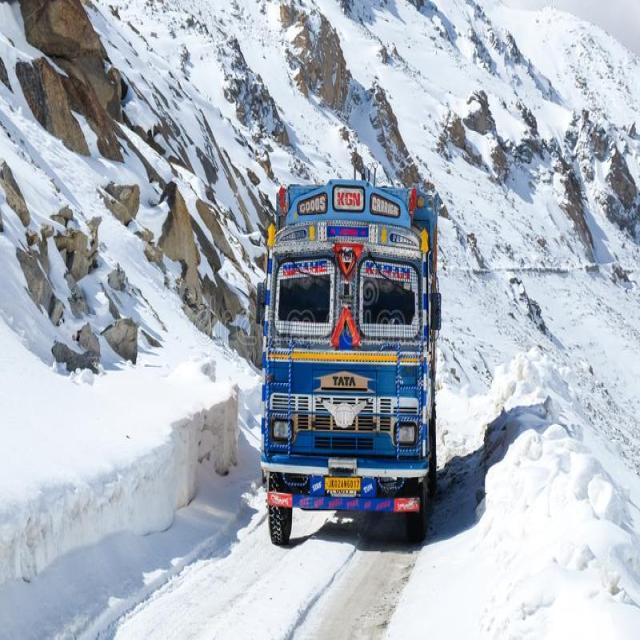normal_truck: (259, 180, 440, 543)
